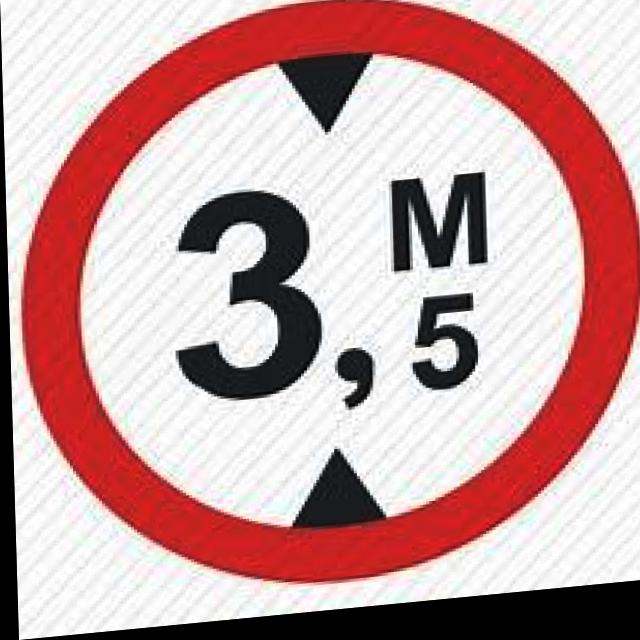HEIGHT_LIMIT: (11, 0, 640, 615)
